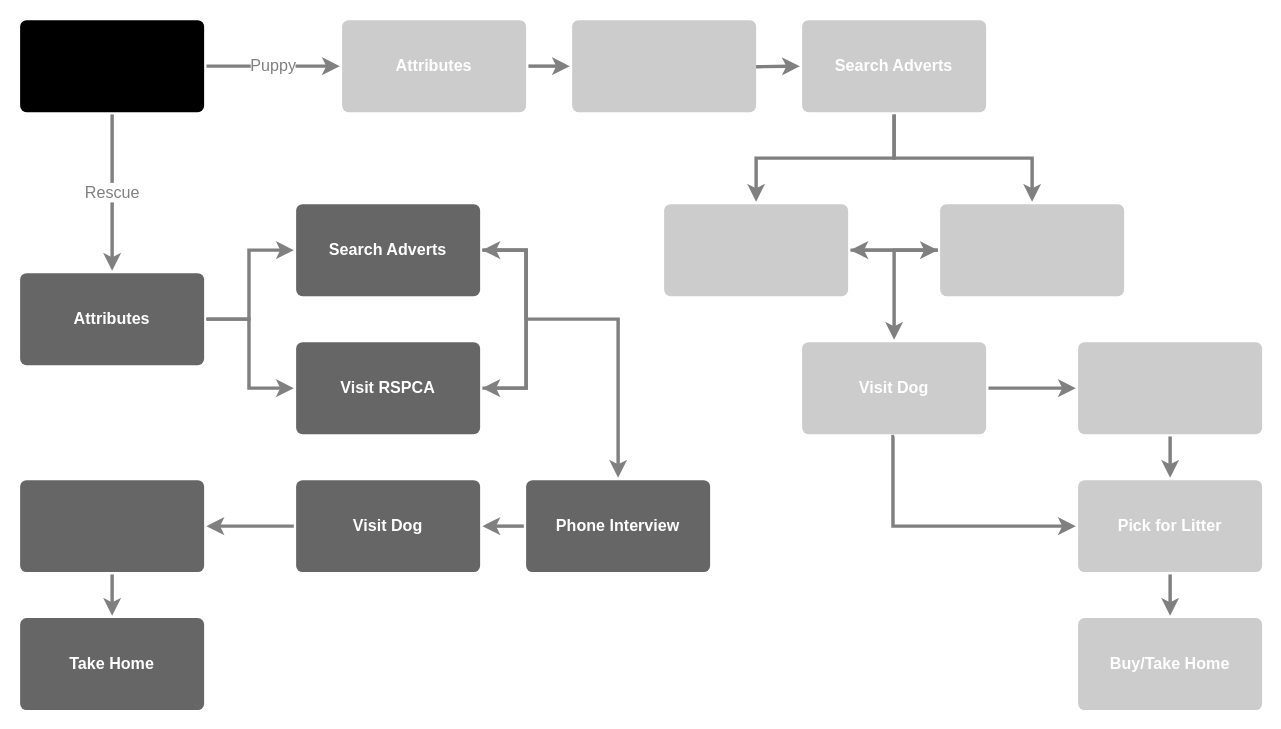
Image size: 1281x729. Some labels were removed from this diagram. Each missing label, with the centre of its shape:
Be Vetted by Breeder: (x=1170, y=388)
Breed: (x=664, y=66)
House Visit: (x=112, y=526)
Puppy or Rescue?: (x=112, y=66)
Review Breeder: (x=1032, y=250)
Review Litters: (x=756, y=250)
